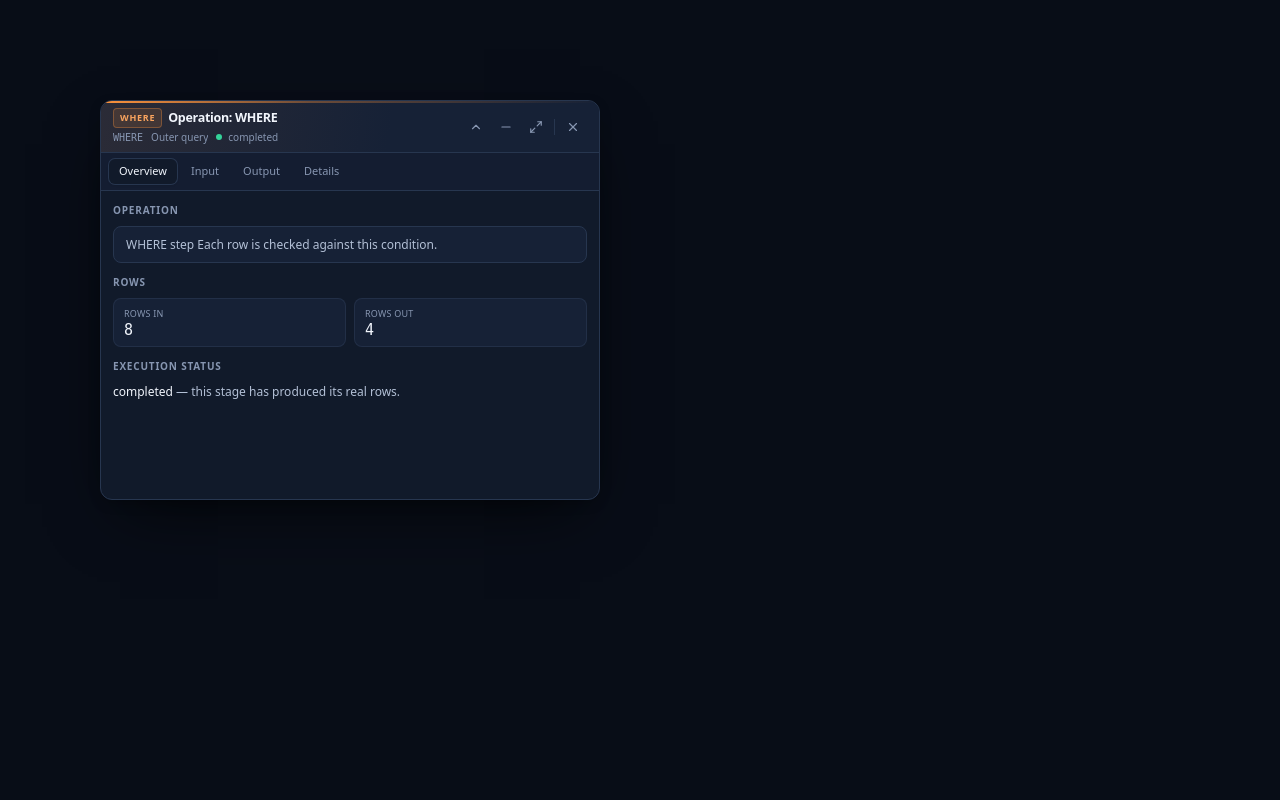
Scenario: FloatingNodeInspector › shows overview rows in/out and switches sections
expect the text "rows in" is shown: met, box [124,307,164,320]
Click the tab "Output": (261, 171) [233,159,290,184]
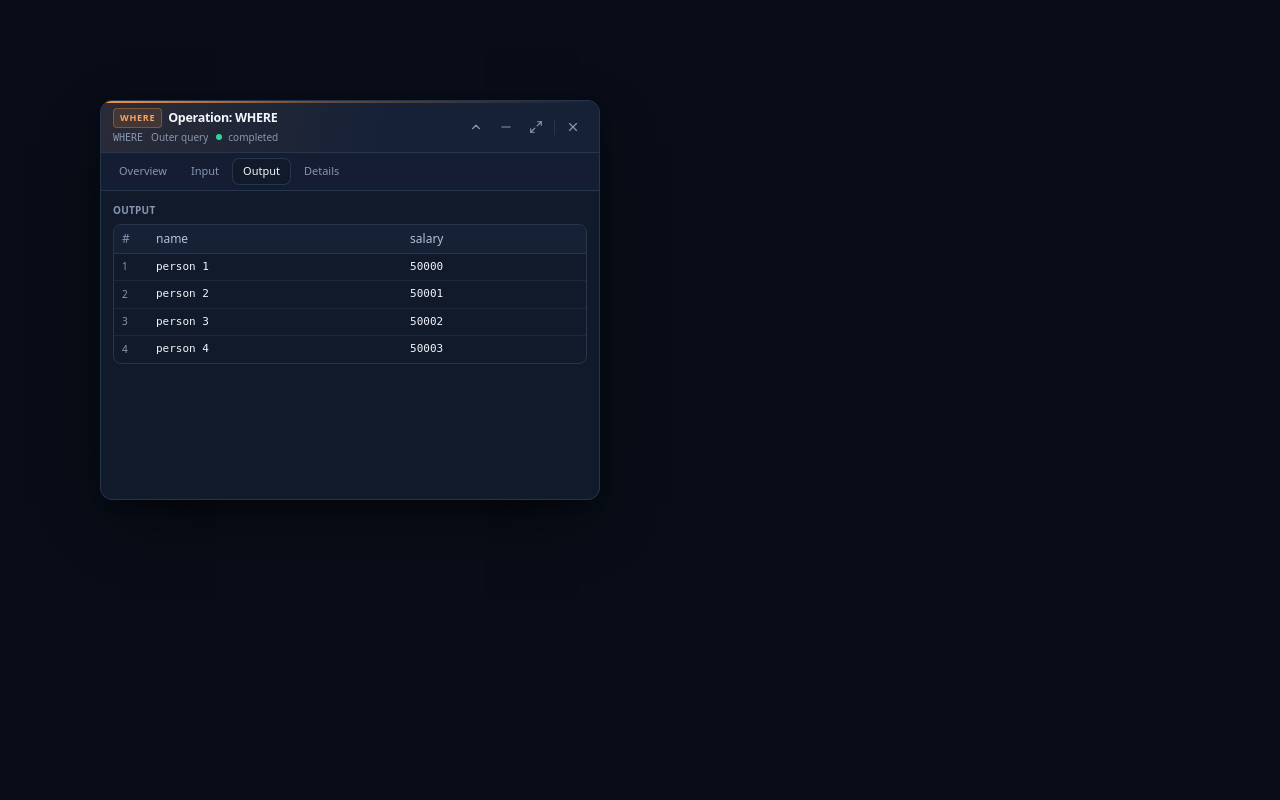
expect the text "person 1" is shown: met, box [146,253,400,281]
Click the tab "Details": (322, 171) [294,159,349,184]
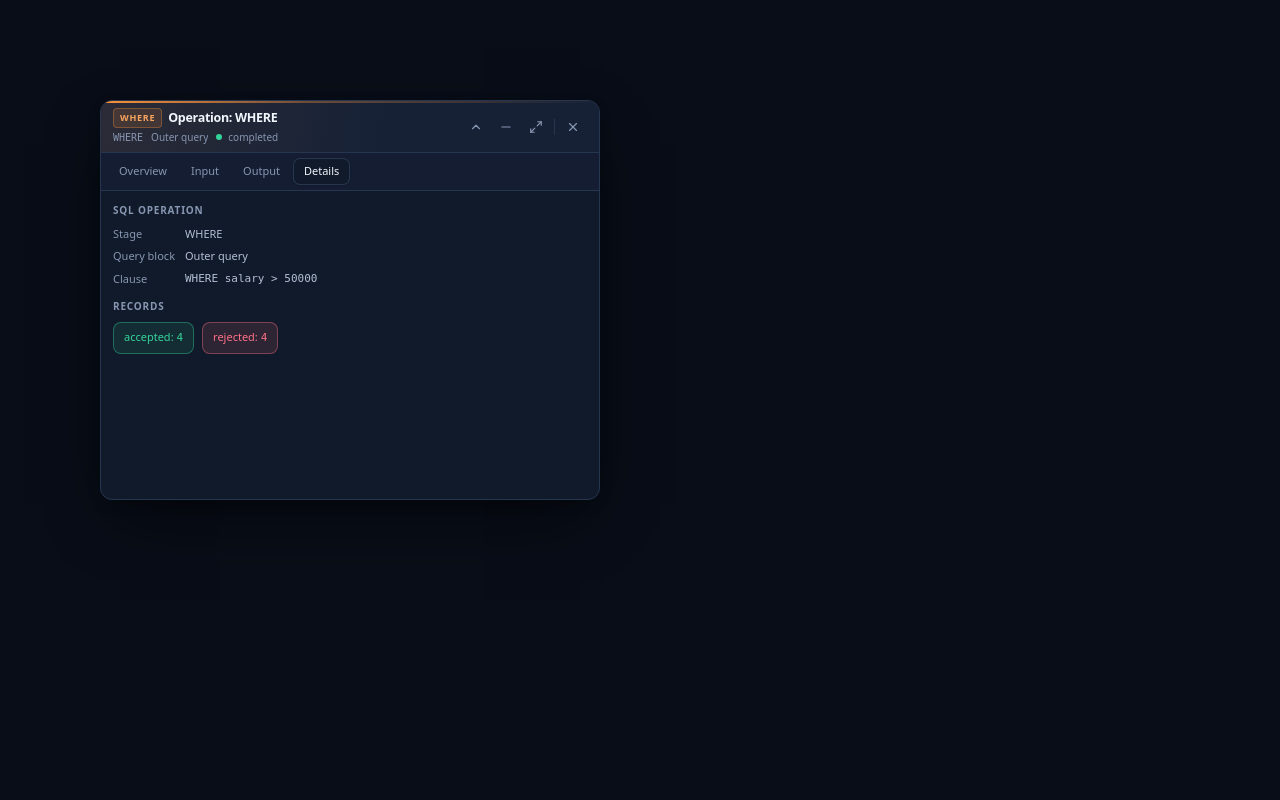
expect the text "WHERE salary > 50000" is shown: met, box [185,272,318,284]
Click the tab "Input": (205, 171) [181,159,229,184]
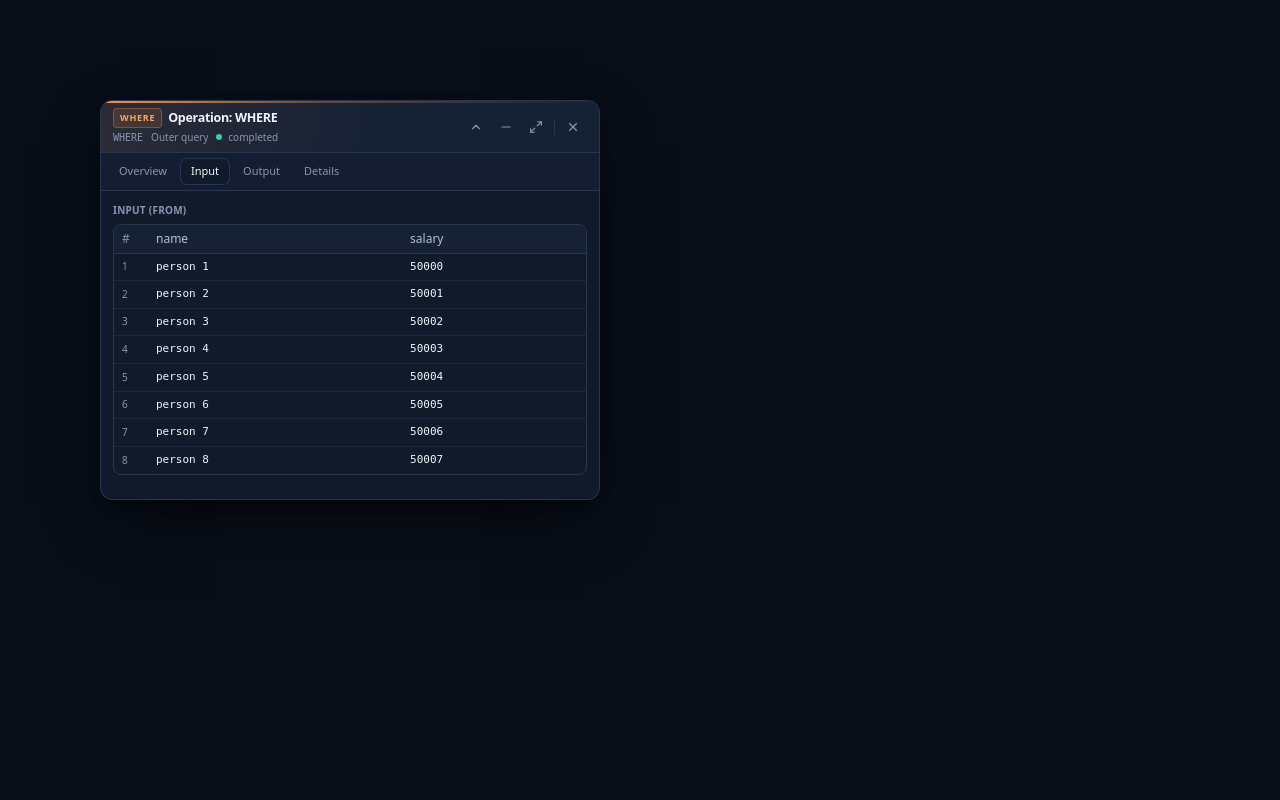
expect the text "person 5" is shown: met, box [146,364,400,391]
